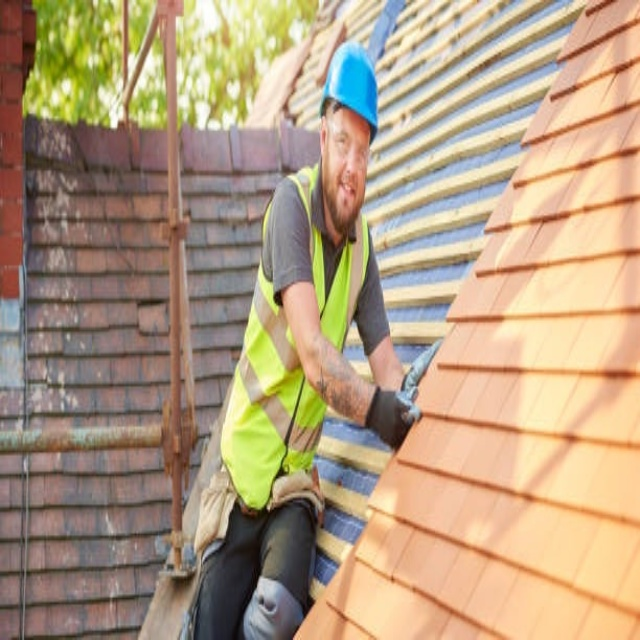Gafas: (325, 116, 371, 163)
Guantes: (365, 385, 421, 453)
Sin_mascara: (335, 168, 359, 216)
